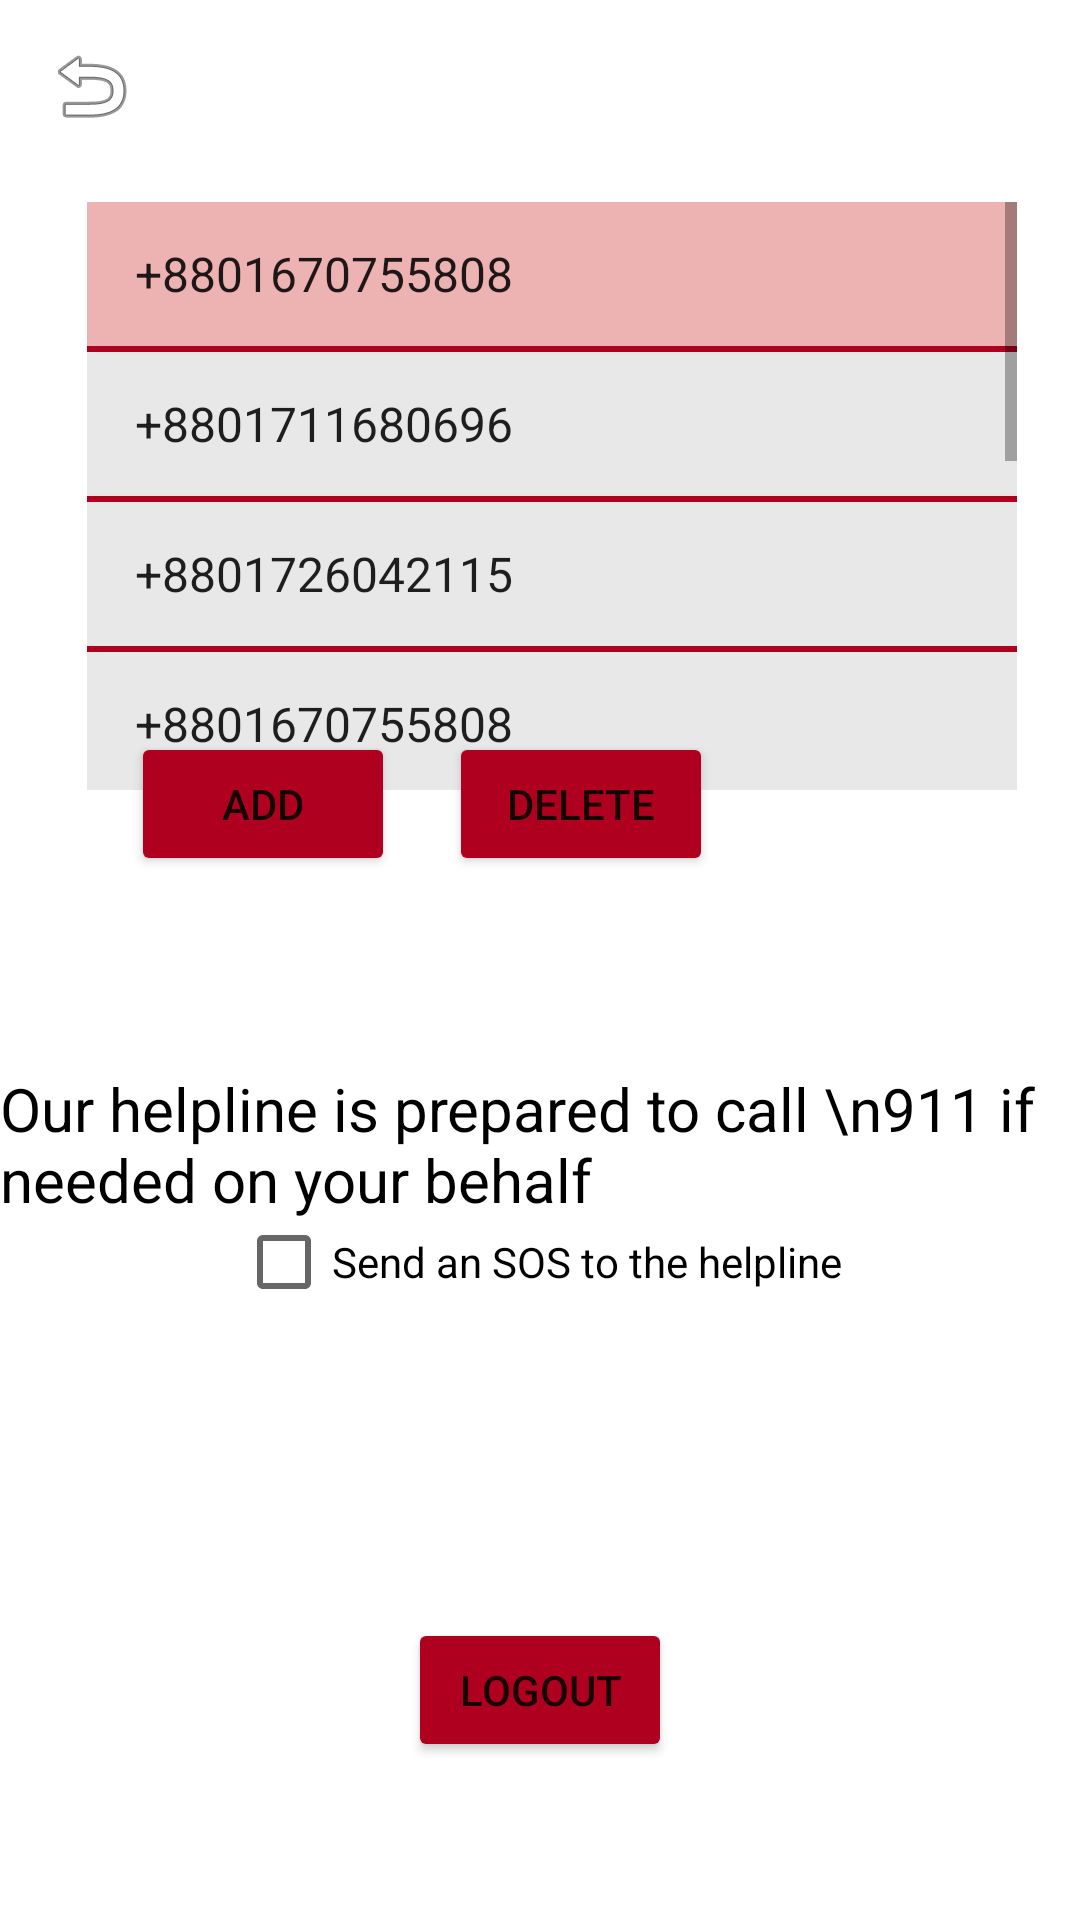

Named icons in this screenshot (1080px×1920px) and their bounding boxes, (x1=x1, y1=y1, x2=x2, y2=y2):
revert: (x1=58, y1=55, x2=127, y2=118)
